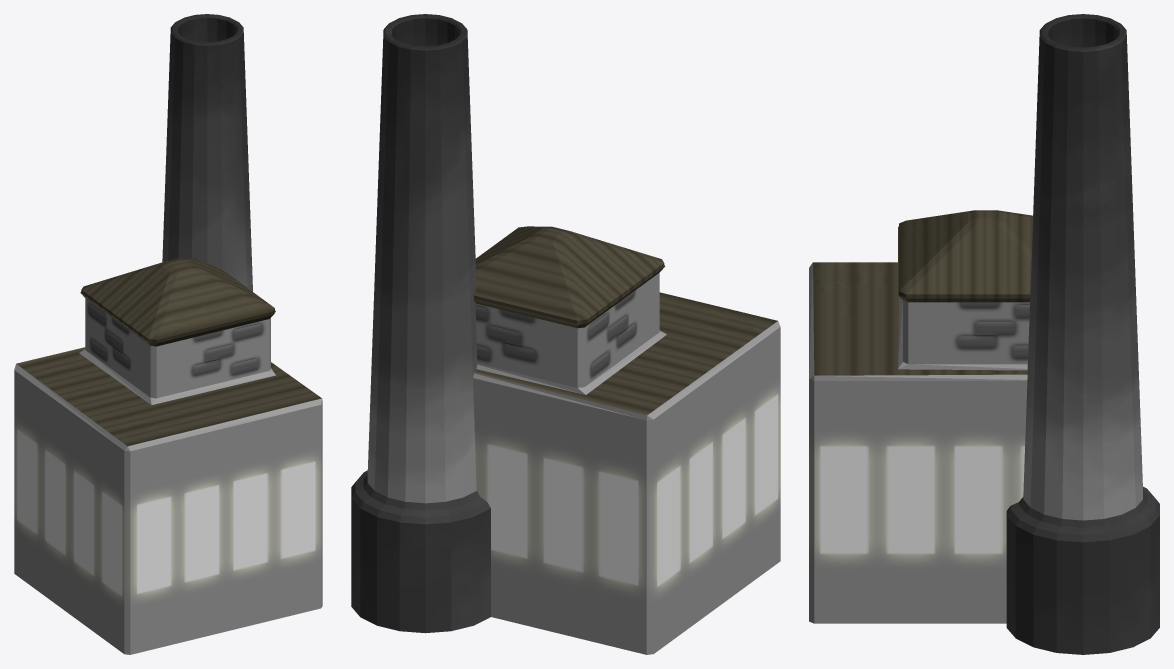
File: building_1_01.FBX
3 renders of one model, left to right at view 1: azimuth 30°, elevation 25°; view 2: azimuth 150°, elevation 25°; view 3: azimuth 270°, elevation 25°, orthographic. The views are drawn at different scales.
Parts seen in each view (by area): view 1: Box001, Cylinder001; view 2: Box001, Cylinder001; view 3: Box001, Cylinder001.
Boxes of the visible parts, x1,y1,x2,y2 form: Box001: [14, 258, 322, 654]; Cylinder001: [162, 14, 252, 291]; Box001: [473, 226, 780, 654]; Cylinder001: [351, 14, 490, 633]; Box001: [809, 210, 1032, 623]; Cylinder001: [1006, 14, 1159, 654].
Size of the model in its own units: 35.11 by 66.9 by 35.48.
